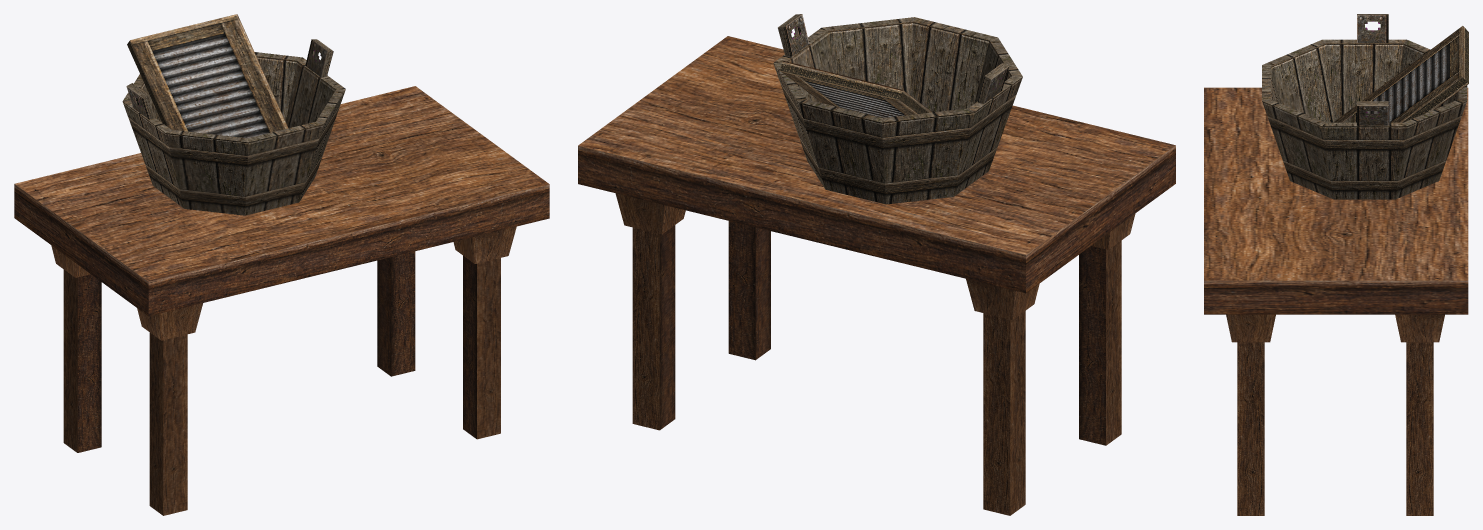
The model's file is mm9_deco_washtubtable.glb.
3 renders of one model, left to right at view 1: azimuth 30°, elevation 25°; view 2: azimuth 150°, elevation 25°; view 3: azimuth 270°, elevation 25°, orthographic. The views are drawn at different scales.
Parts seen in each view (by area): view 1: Washtubtable; view 2: Washtubtable; view 3: Washtubtable.
Part boxes in pixels (x1=…): Washtubtable: x1=14, y1=14, x2=549, y2=515; Washtubtable: x1=578, y1=14, x2=1175, y2=515; Washtubtable: x1=1204, y1=14, x2=1468, y2=515.
Size of the model in its own units: 1.56 by 1.39 by 0.9068.
2 materials, 2 textured.
